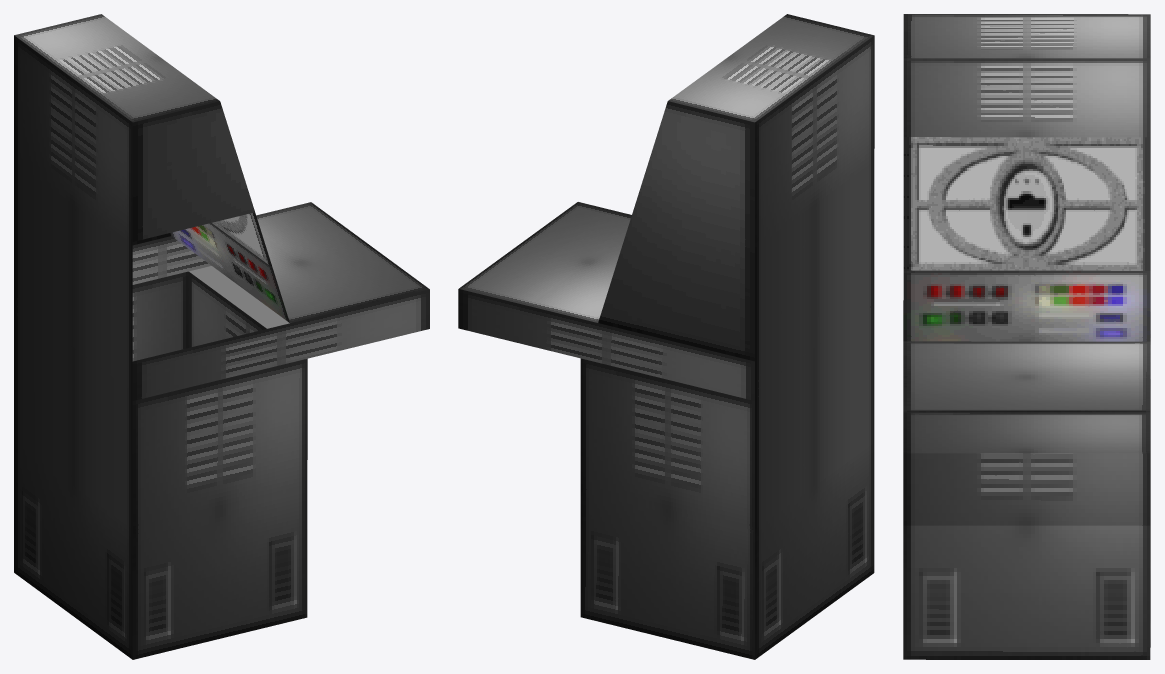
File: primary_101.glb
3 views of the same model, side by side, from view 1: azimuth 30°, elevation 25°; view 2: azimuth 150°, elevation 25°; view 3: azimuth 270°, elevation 25° (orthographic). The views are drawn at different scales.
Visible parts, largest first — view 1: Object; view 2: Object; view 3: Object.
Part boxes in pixels (bbox=[...]): Object: bbox=[14, 14, 429, 659]; Object: bbox=[458, 14, 874, 659]; Object: bbox=[903, 14, 1150, 659].
Size of the model in its own units: 1.03 by 1.78 by 0.7167.
20 materials, 20 textured.
